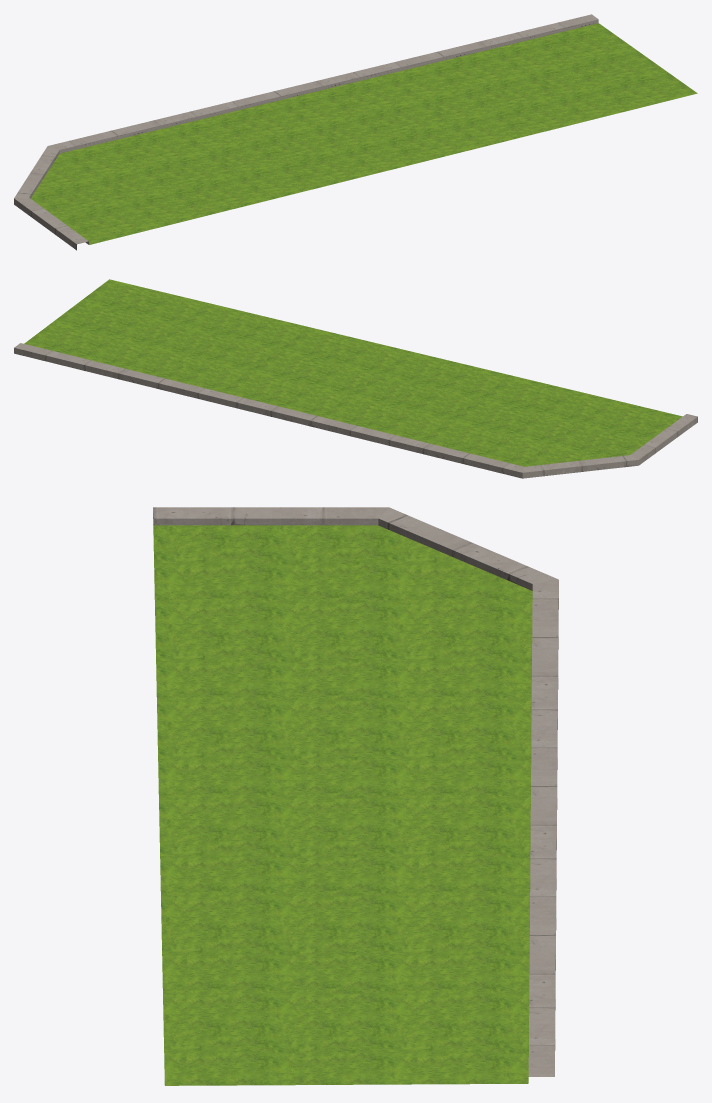
The model's file is GrassTile_B.fbx.
3 views of the same model, one above another, from view 1: azimuth 30°, elevation 25°; view 2: azimuth 150°, elevation 25°; view 3: azimuth 270°, elevation 25° (orthographic). The views are drawn at different scales.
Parts seen in each view (by area): view 1: GrassTile_B; view 2: GrassTile_B; view 3: GrassTile_B.
Boxes of the visible parts, x1,y1,x2,y2 form: GrassTile_B: [14, 14, 697, 250]; GrassTile_B: [14, 279, 697, 478]; GrassTile_B: [153, 507, 558, 1085].
Bounding box in the file's own units: 3569 × 33.99 × 1071.
Materials: 2 (2 with a texture image).
